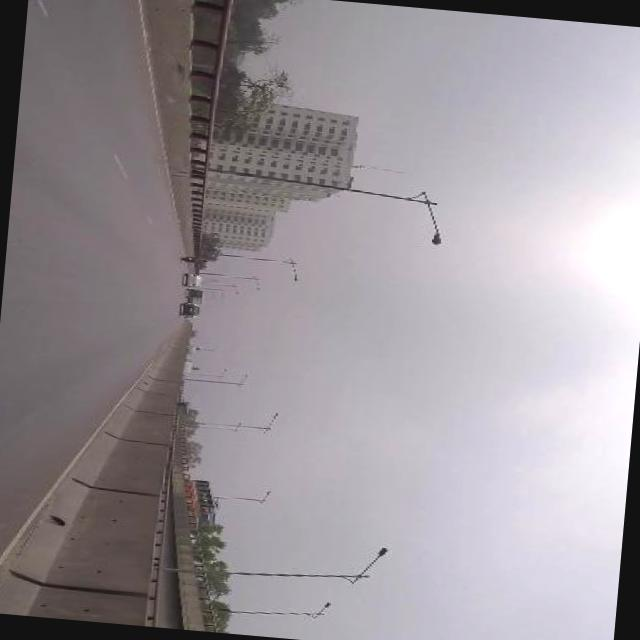bus: (184, 478, 222, 526)
car: (182, 270, 203, 286), (183, 302, 200, 316), (185, 358, 195, 372)
motorcycle: (182, 255, 210, 264)
truck: (186, 288, 204, 298), (190, 296, 202, 302)
